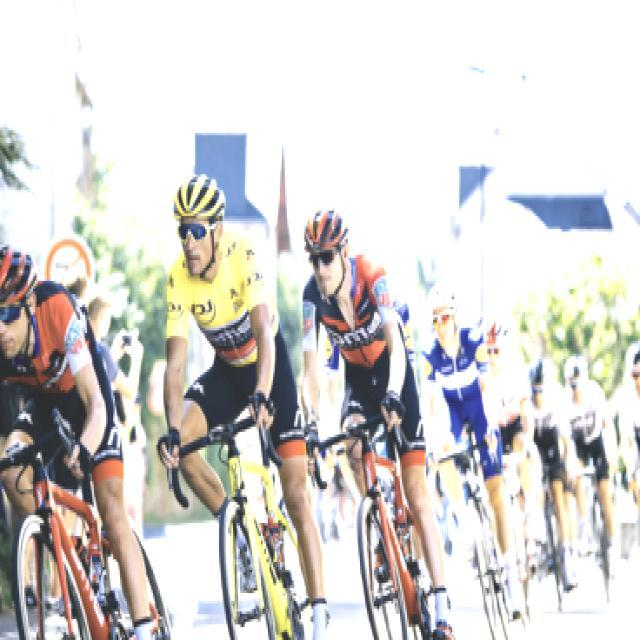Helmet: (165, 159, 235, 278), (301, 198, 353, 312), (0, 236, 42, 360), (424, 276, 464, 348), (520, 348, 558, 414)
